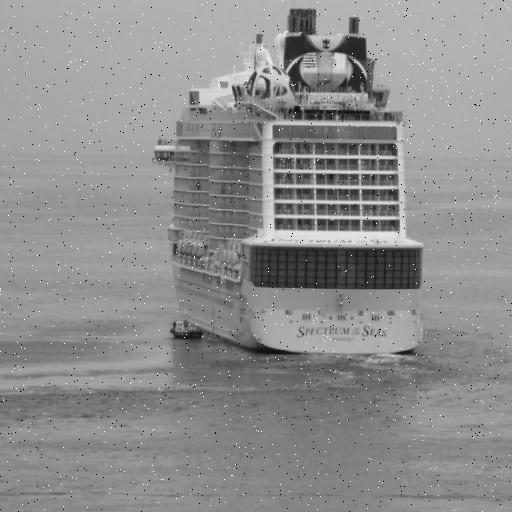cruises: (146, 1, 432, 366)
